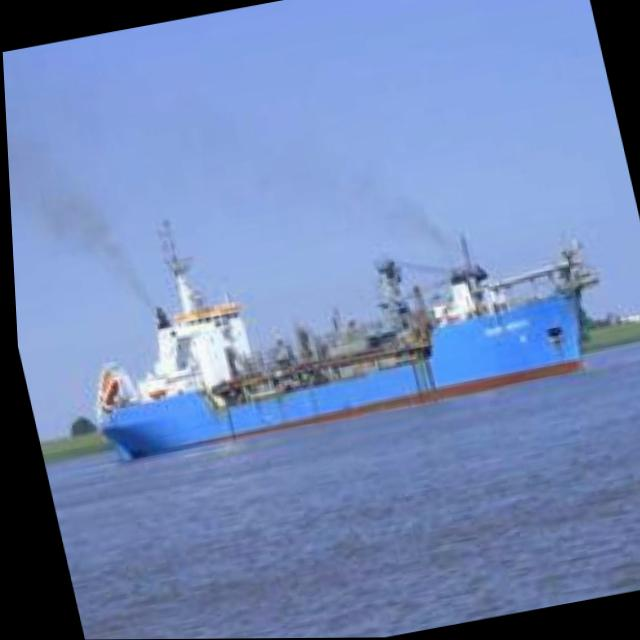ship2: (91, 220, 596, 460)
